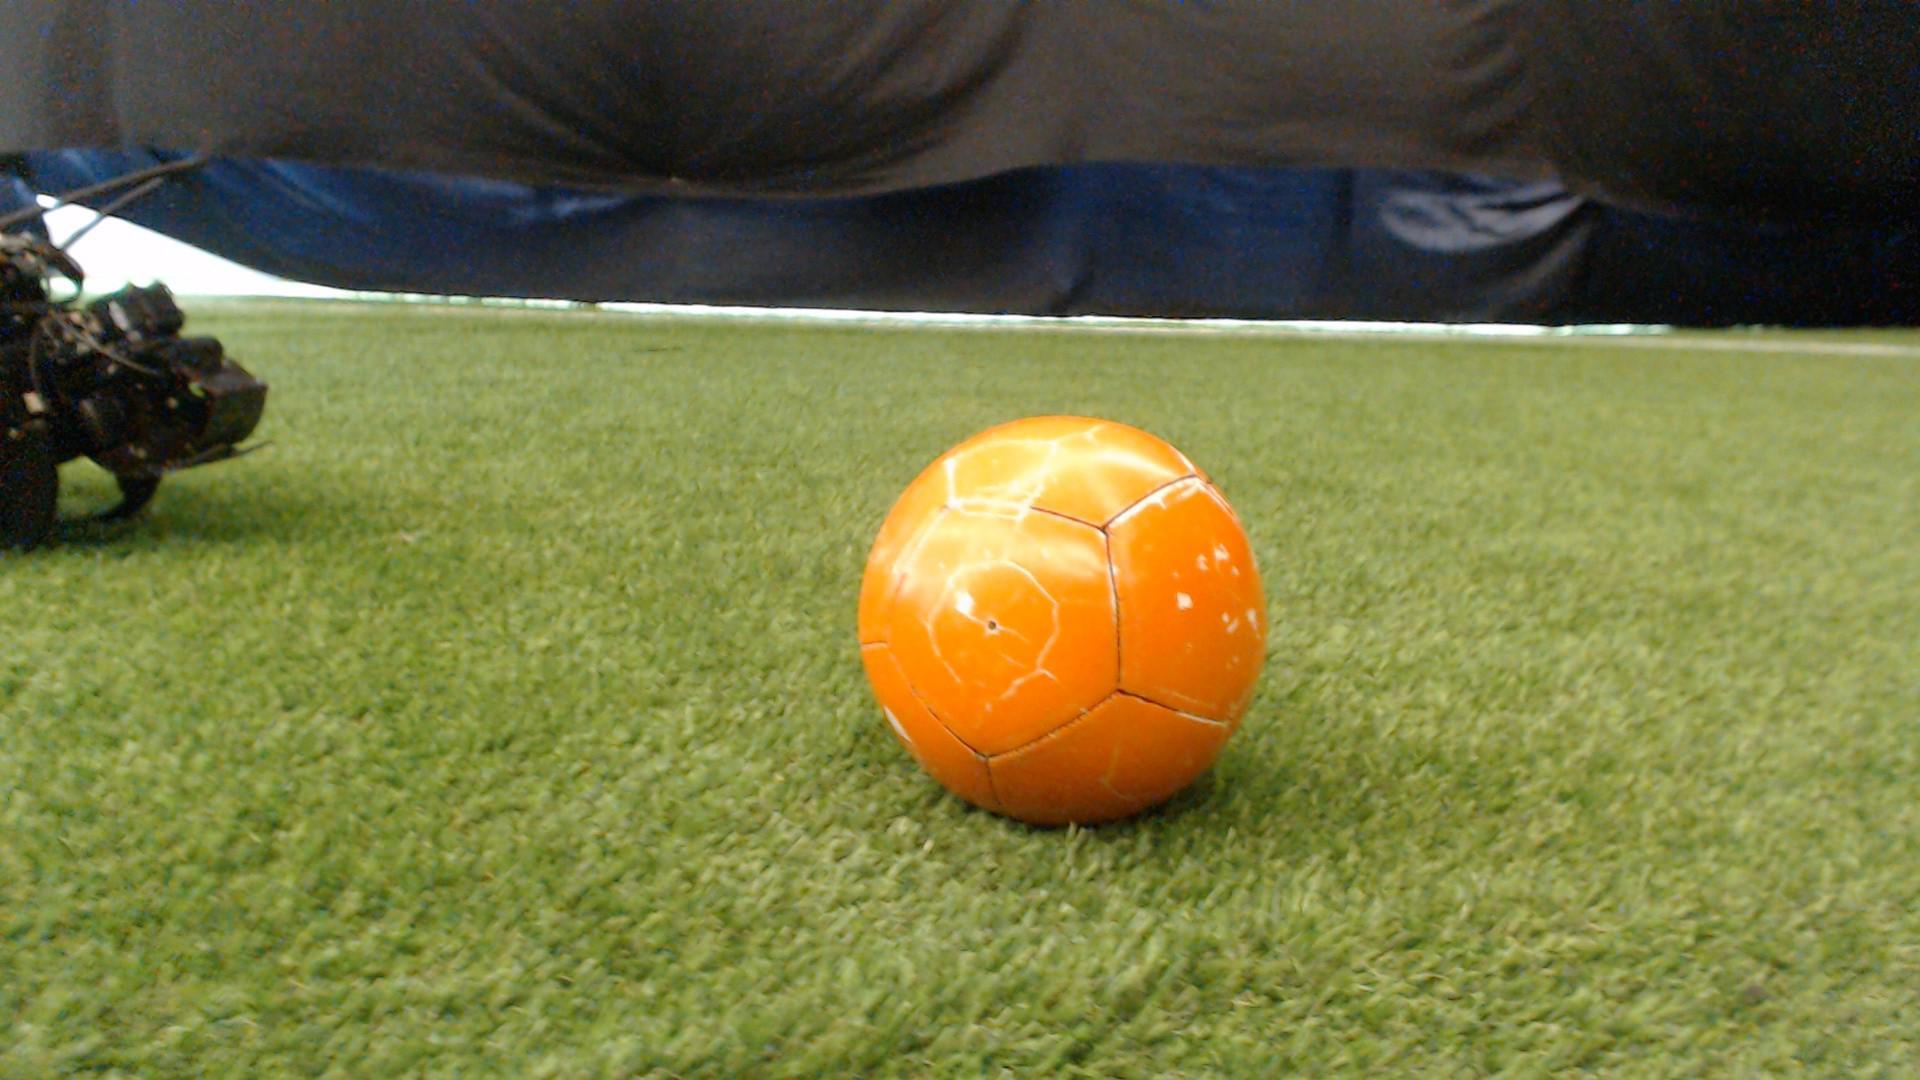bola: (822, 386, 1307, 894)
